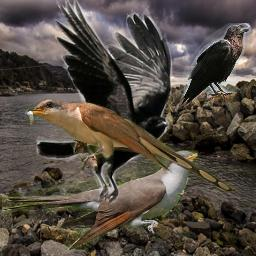Crow: (36, 0, 174, 208), (179, 23, 252, 106)
Cuckoo: (21, 98, 234, 193), (2, 150, 198, 250)
